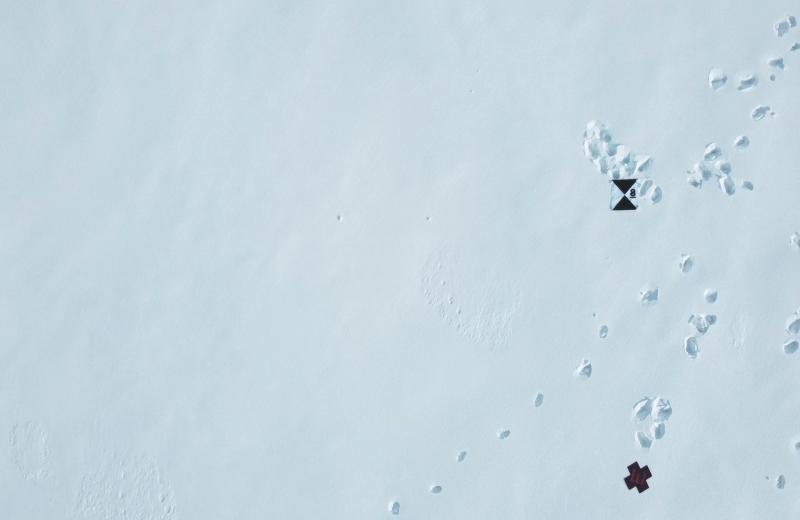Cross: (622, 458, 654, 498)
